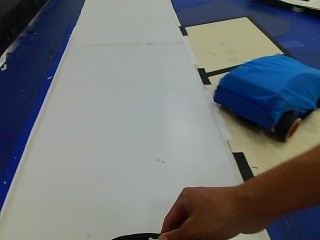car: (210, 49, 318, 147)
